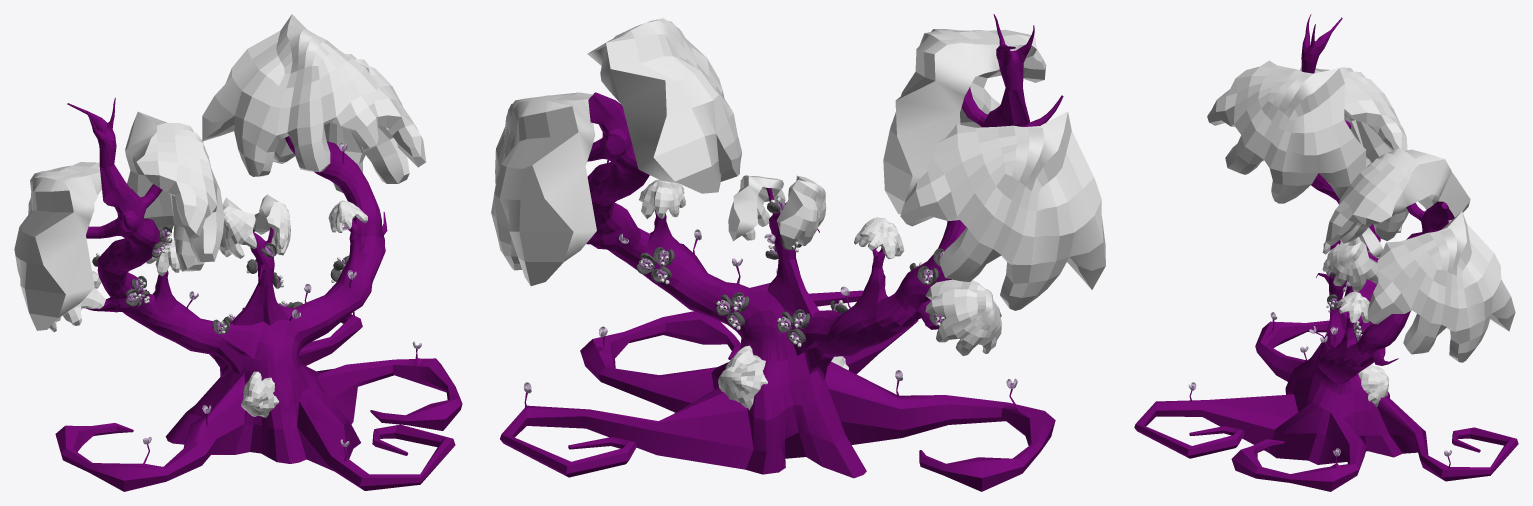
Rendered from arv_do_mal.fbx.
3 views of the same model, side by side, from view 1: azimuth 30°, elevation 25°; view 2: azimuth 150°, elevation 25°; view 3: azimuth 270°, elevation 25° (orthographic). The views are drawn at different scales.
Visible parts, largest first — view 1: polySurface88; view 2: polySurface88; view 3: polySurface88.
Boxes of the visible parts, bbox=[...] form: polySurface88: bbox=[14, 14, 462, 491]; polySurface88: bbox=[491, 14, 1105, 491]; polySurface88: bbox=[1134, 14, 1518, 491].
Size of the model in its own units: 8.02 by 6.65 by 6.86.
